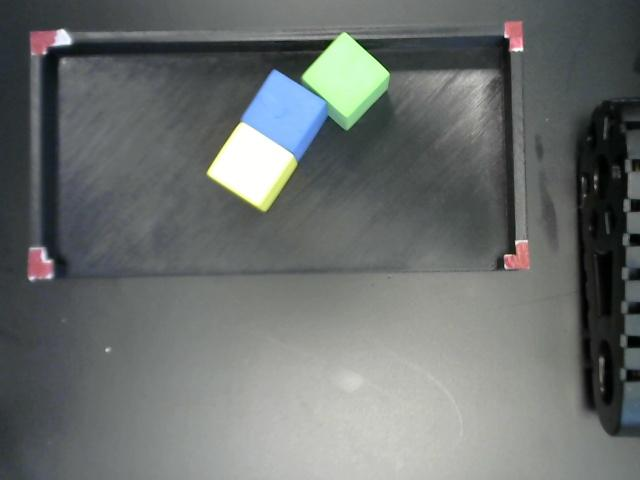cube: (301, 31, 391, 129), (240, 70, 329, 163), (206, 124, 296, 211)
